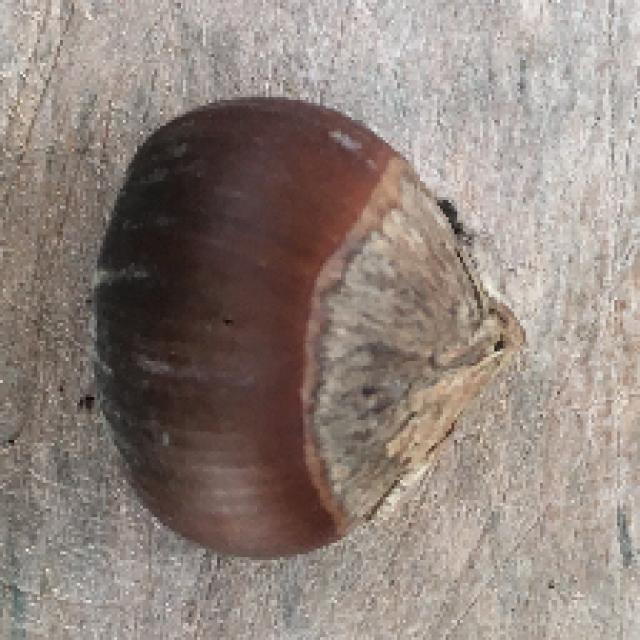DamagedHazelnut: (89, 98, 526, 560)
